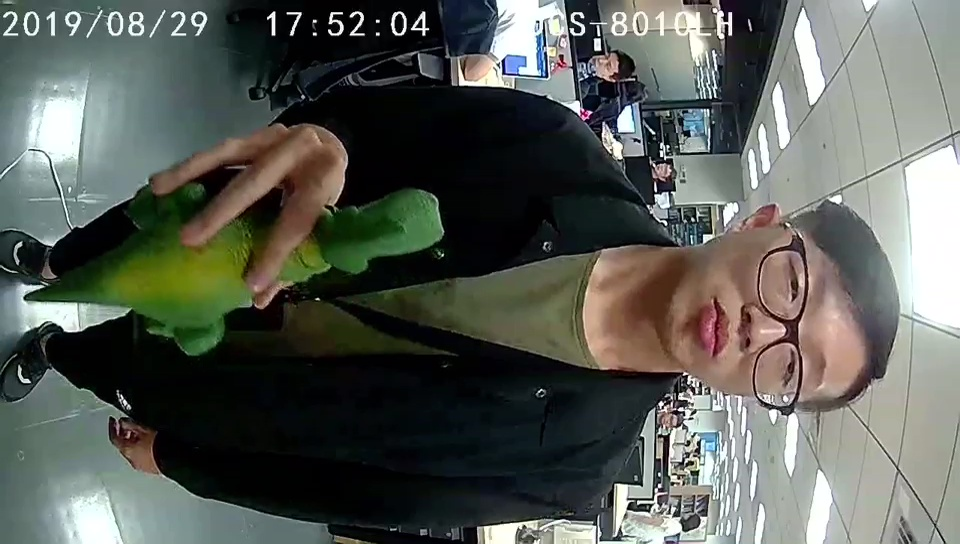rex: (106, 180, 445, 357)
